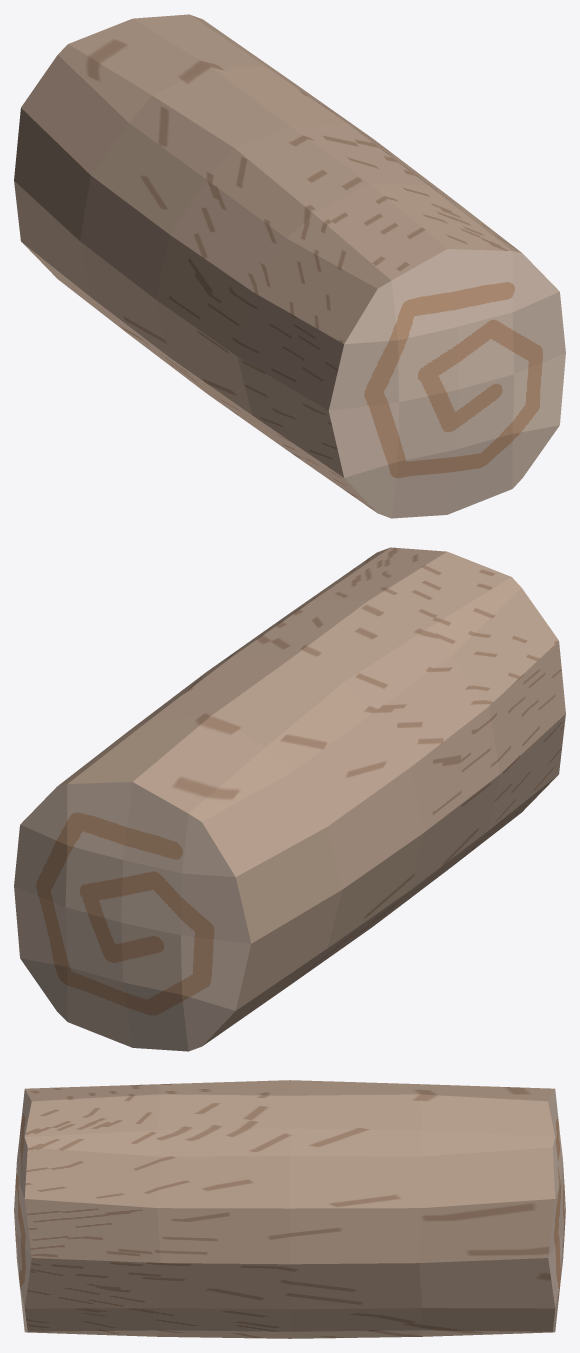
The model's file is log.fbx.
The picture shows the model from 3 angles, top to bottom: view 1: azimuth 30°, elevation 25°; view 2: azimuth 150°, elevation 25°; view 3: azimuth 270°, elevation 25°; orthographic projection. The views are drawn at different scales.
Parts seen in each view (by area): view 1: Cube.001; view 2: Cube.001; view 3: Cube.001.
Part boxes in pixels (bbox=[...]): Cube.001: bbox=[14, 14, 565, 518]; Cube.001: bbox=[14, 547, 565, 1051]; Cube.001: bbox=[14, 1080, 565, 1338].
Size of the model in its own units: 75.03 by 76.42 by 163.
